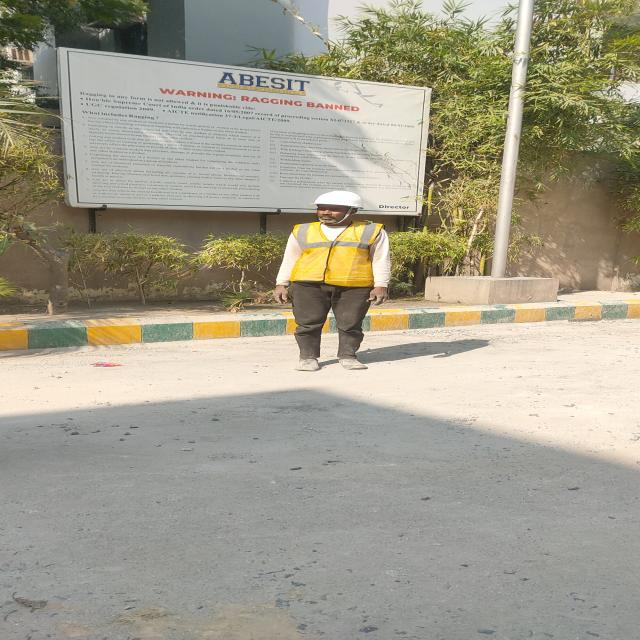safe: (272, 191, 391, 372)
